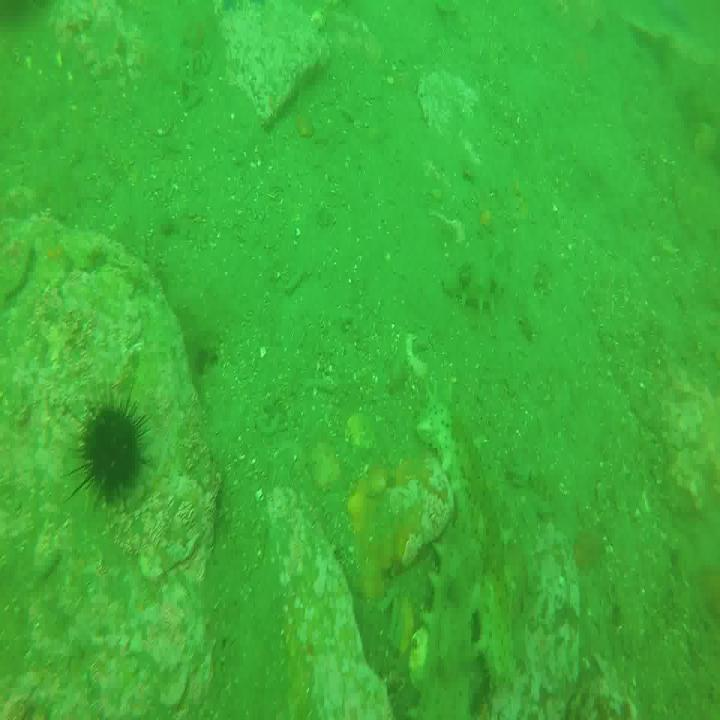echinus: (73, 389, 142, 499)
holothurian: (415, 374, 515, 685), (418, 530, 479, 720), (442, 243, 509, 311)
